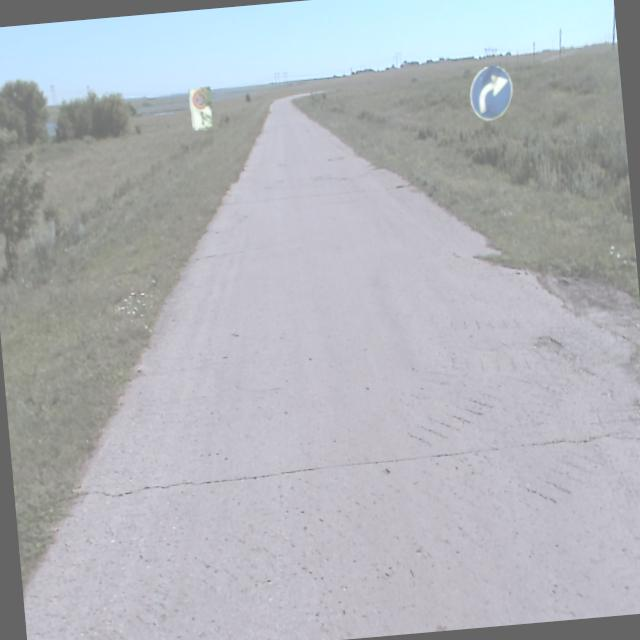road: (23, 101, 640, 640)
